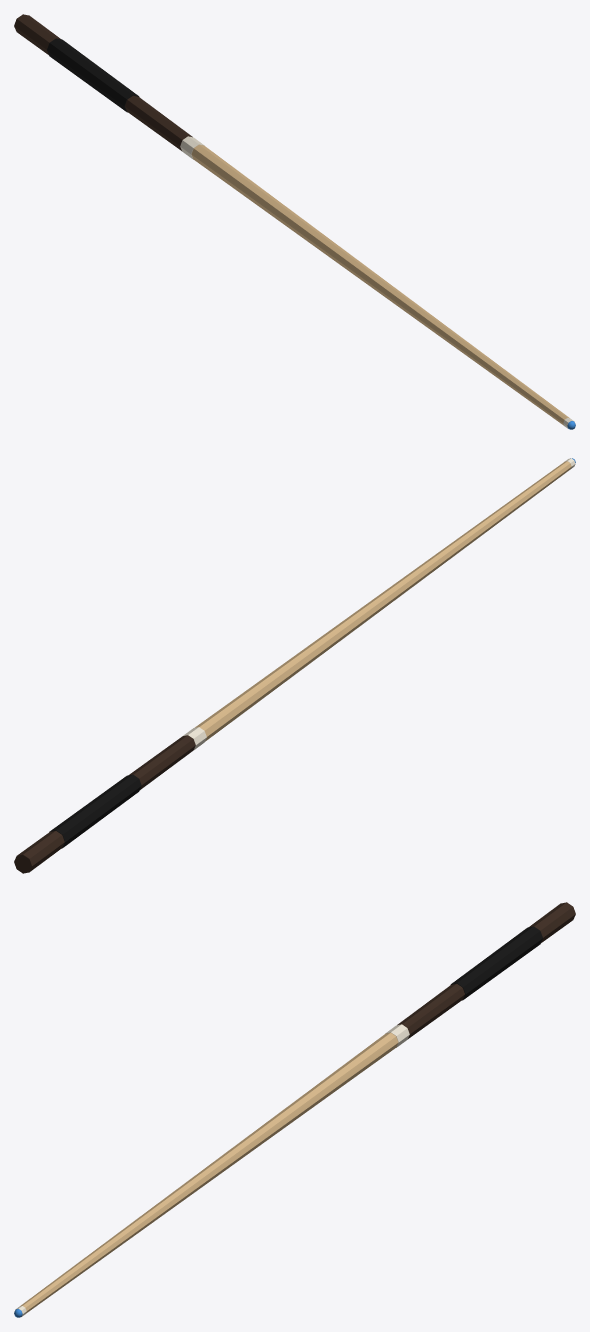
File: cue.glb
3 renders of one model, top to bottom at view 1: azimuth 30°, elevation 25°; view 2: azimuth 150°, elevation 25°; view 3: azimuth 330°, elevation 25°, orthographic.
Visible parts, largest first — view 1: cue; view 2: cue; view 3: cue.
Boxes of the visible parts, x1,y1,x2,y2 form: cue: [14, 14, 575, 429]; cue: [14, 458, 575, 873]; cue: [14, 902, 575, 1317].
Bounding box in the file's own units: 0.0284 × 0.0284 × 1.47.
